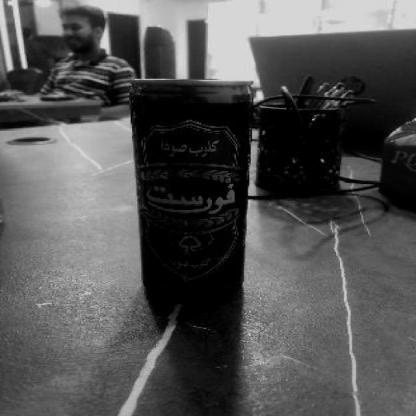alumunium_can: (130, 72, 258, 304)
